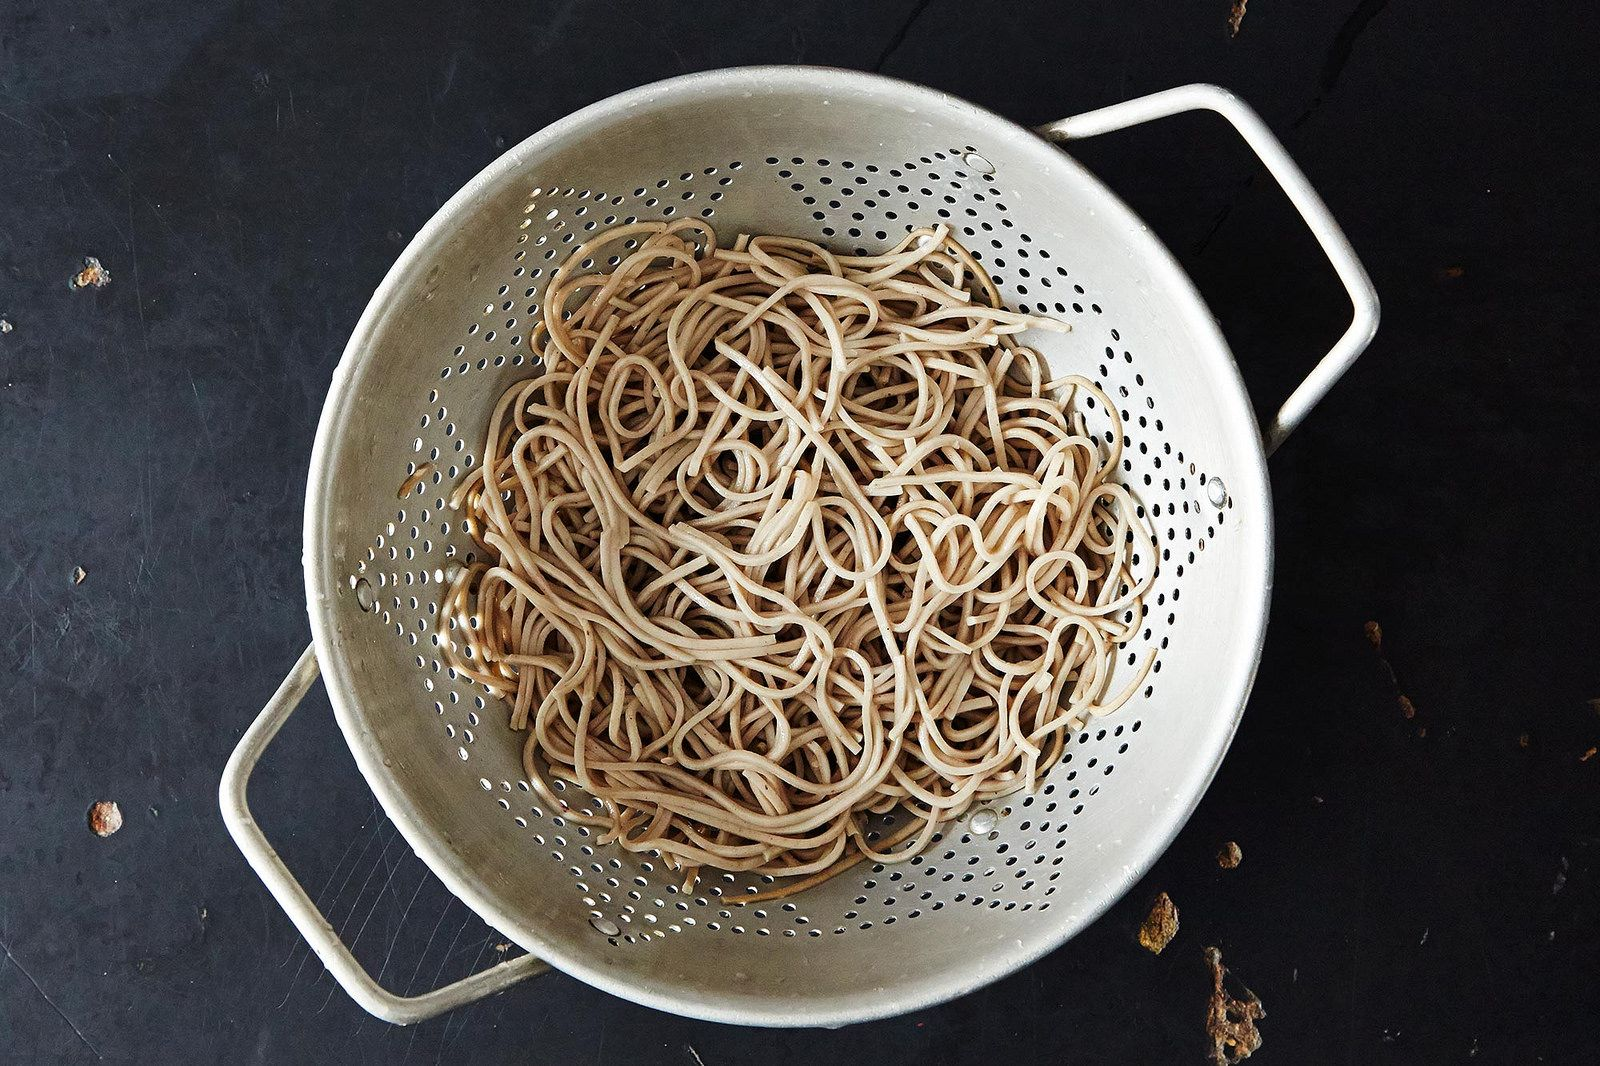Soba: (410, 221, 1191, 927)
